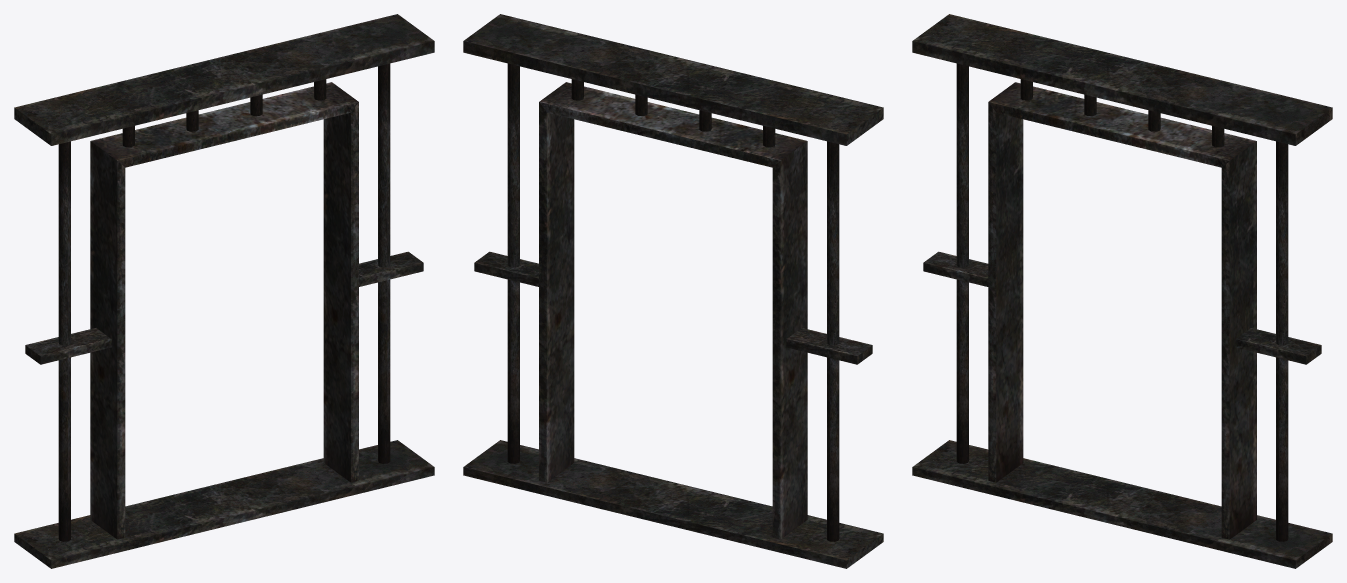
The model's file is prisonbars_door_way.dae.
3 views of the same model, side by side, from view 1: azimuth 30°, elevation 25°; view 2: azimuth 150°, elevation 25°; view 3: azimuth 330°, elevation 25° (orthographic).
Visible parts, largest first — view 1: polySurface11; view 2: polySurface11; view 3: polySurface11.
Boxes of the visible parts, left/top/right/bottom form: polySurface11: left=14, top=14, right=434, bottom=568; polySurface11: left=463, top=14, right=883, bottom=568; polySurface11: left=912, top=14, right=1332, bottom=568.
Size of the model in its own units: 3 by 3.25 by 0.5.
